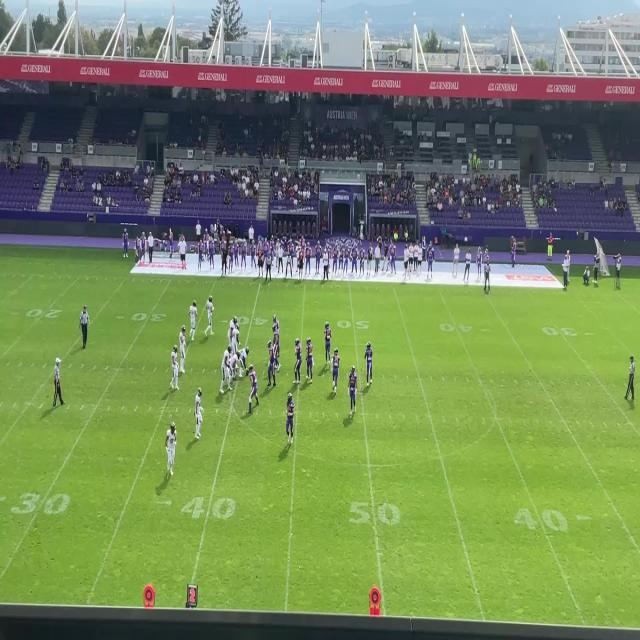3: (12, 489, 41, 520)
4: (179, 492, 208, 525), (512, 503, 540, 536)
5: (346, 494, 372, 530)
american-football-players: (219, 344, 235, 401), (247, 363, 262, 417), (164, 420, 177, 478), (285, 392, 296, 450), (169, 343, 182, 392), (266, 340, 278, 390), (304, 336, 316, 385), (194, 386, 204, 444), (347, 364, 357, 422), (271, 323, 282, 373), (228, 350, 243, 385), (364, 341, 374, 393), (331, 346, 340, 402), (293, 335, 303, 385), (178, 324, 188, 374), (206, 293, 216, 338), (188, 299, 198, 343), (324, 319, 332, 366), (270, 314, 282, 343), (238, 347, 250, 374), (231, 322, 240, 358), (228, 314, 238, 341)
